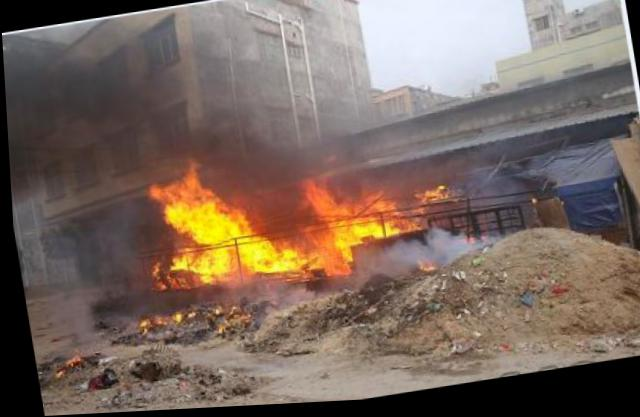fire: (178, 200, 244, 250), (233, 236, 304, 282), (153, 180, 207, 235), (167, 247, 238, 288), (298, 230, 332, 272), (303, 184, 335, 223), (334, 198, 388, 220), (326, 228, 348, 267), (378, 217, 416, 239), (345, 225, 380, 245), (321, 266, 344, 277)
